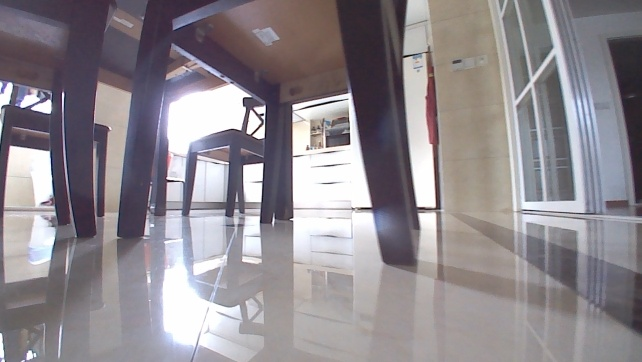cupboard: (164, 140, 351, 214)
dining_table1: (0, 0, 426, 271)
